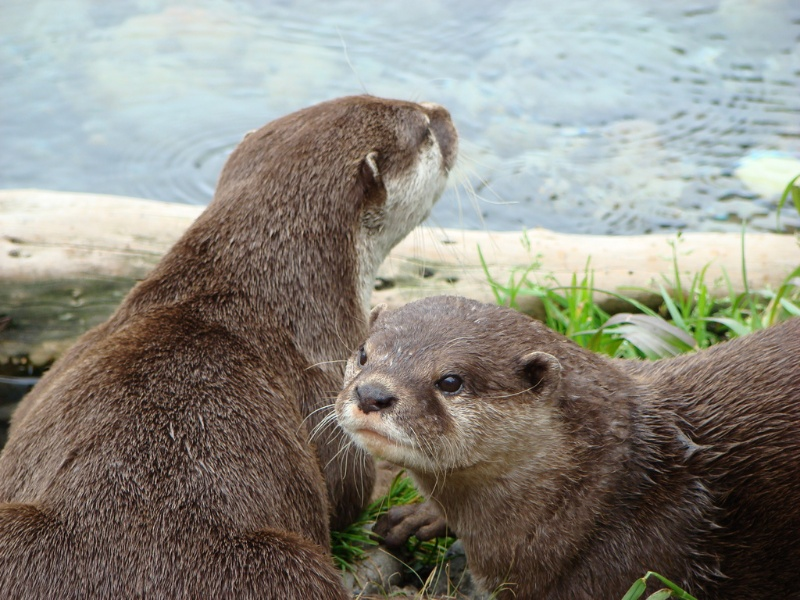minkish: (6, 81, 465, 590), (337, 298, 799, 588)
